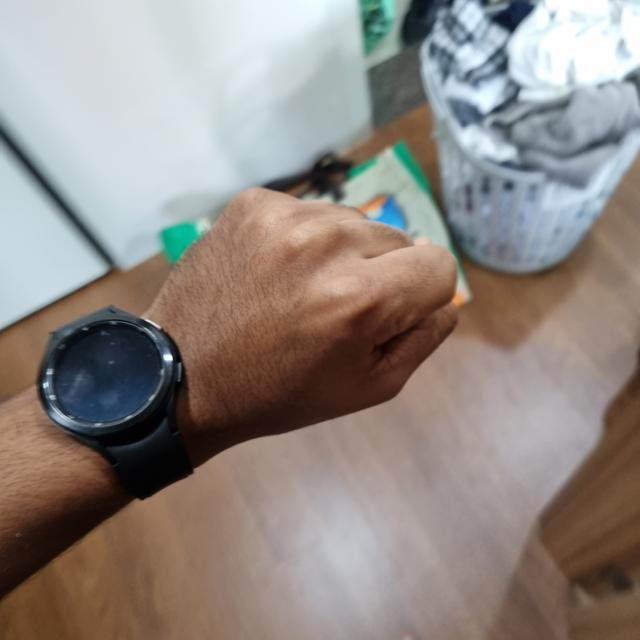Rock: (152, 189, 457, 448)
